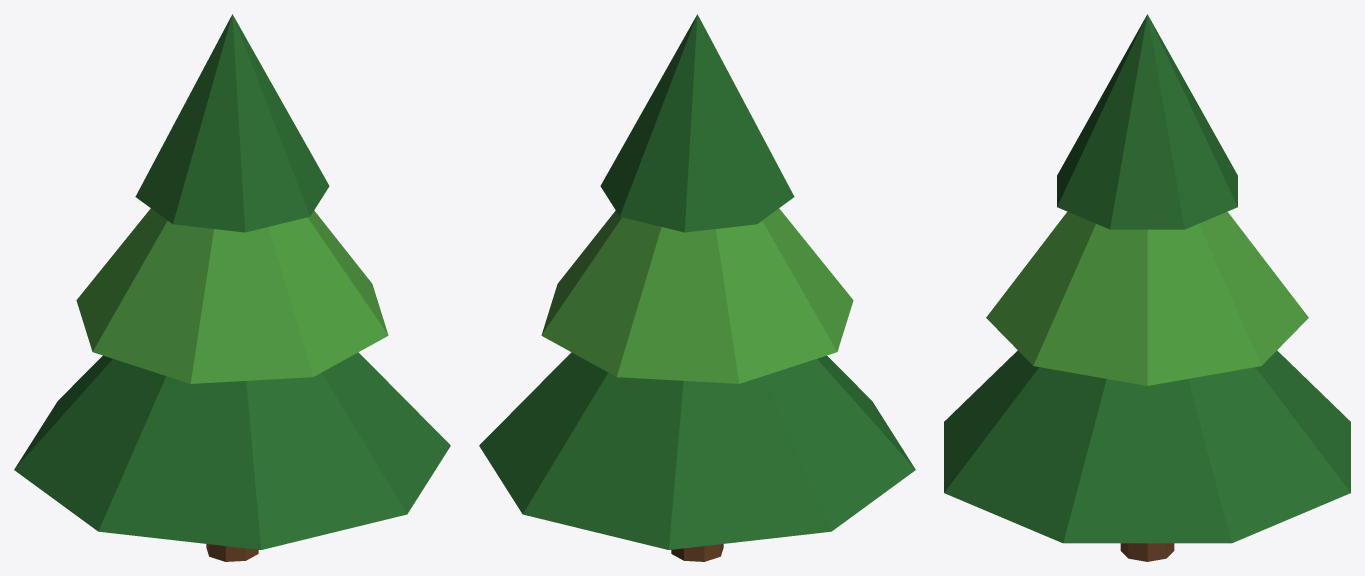
Rendered from pine_tree.glb.
The picture shows the model from 3 angles, left to right: view 1: azimuth 30°, elevation 25°; view 2: azimuth 150°, elevation 25°; view 3: azimuth 270°, elevation 25°; orthographic projection.
Visible parts, largest first — view 1: PineTree; view 2: PineTree; view 3: PineTree.
Part boxes in pixels (x1=…): PineTree: x1=14, y1=14, x2=450, y2=561; PineTree: x1=479, y1=14, x2=915, y2=561; PineTree: x1=944, y1=14, x2=1350, y2=561.
Bounding box in the file's own units: 1.66 × 2.42 × 1.66.
